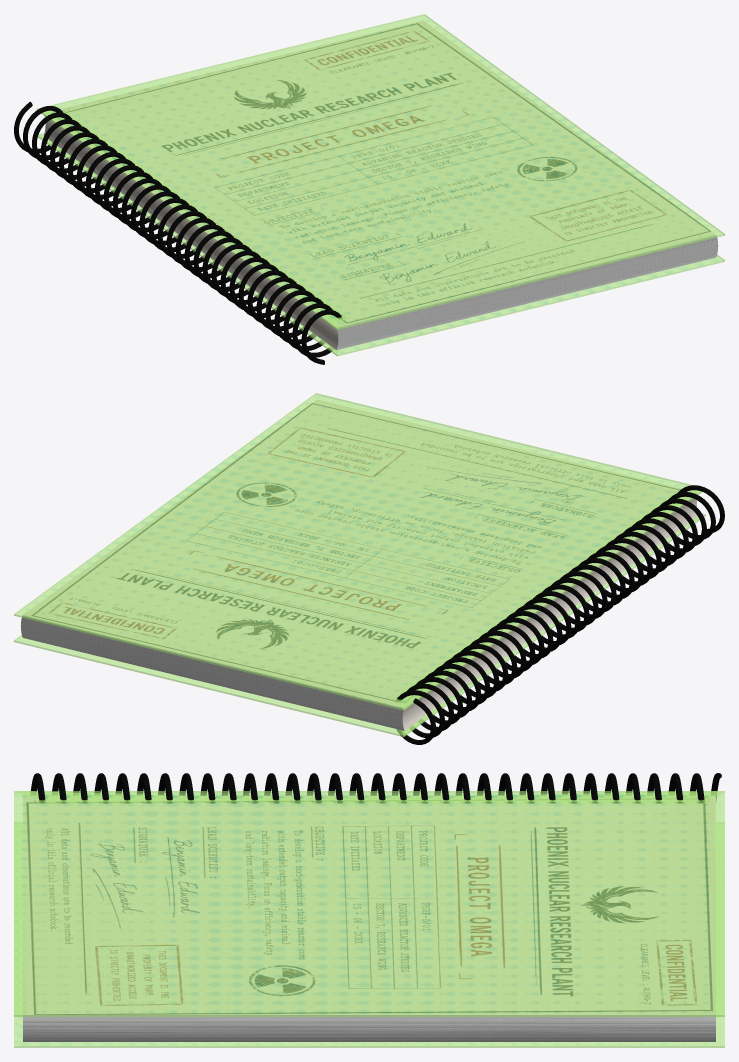
File: SpiralNoteBookGreen.fbx
3 renders of one model, top to bottom at view 1: azimuth 30°, elevation 25°; view 2: azimuth 150°, elevation 25°; view 3: azimuth 270°, elevation 25°, orthographic. The views are drawn at different scales.
Parts seen in each view (by area): view 1: Cover, Note, Ring, Paper; view 2: Cover, Note, Ring, Paper; view 3: Cover, Note, Paper, Ring.
Boxes of the visible parts, left/top/right/bottom form: Cover: left=36, top=14, right=724, bottom=356; Note: left=43, top=21, right=715, bottom=349; Ring: left=14, top=101, right=342, bottom=364; Paper: left=336, top=235, right=718, bottom=349; Cover: left=14, top=393, right=705, bottom=737; Note: left=23, top=400, right=697, bottom=730; Ring: left=396, top=485, right=724, bottom=744; Paper: left=21, top=615, right=404, bottom=730; Cover: left=14, top=791, right=724, bottom=1047; Note: left=23, top=796, right=715, bottom=1014; Paper: left=23, top=1015, right=715, bottom=1041; Ring: left=31, top=773, right=721, bottom=803.
Size of the model in its own units: 47.83 by 5.5 by 60.
4 materials, 3 textured.
